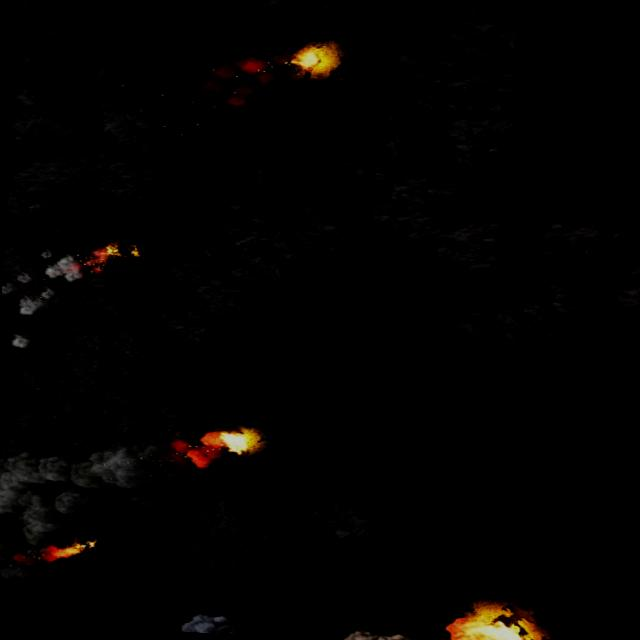fire: (439, 605, 540, 640), (86, 240, 144, 274), (288, 41, 336, 74), (205, 426, 259, 455), (42, 539, 90, 561)
smoke: (0, 423, 230, 612), (0, 250, 88, 318), (198, 46, 288, 108), (339, 625, 544, 640), (177, 612, 245, 636), (8, 328, 34, 350)
